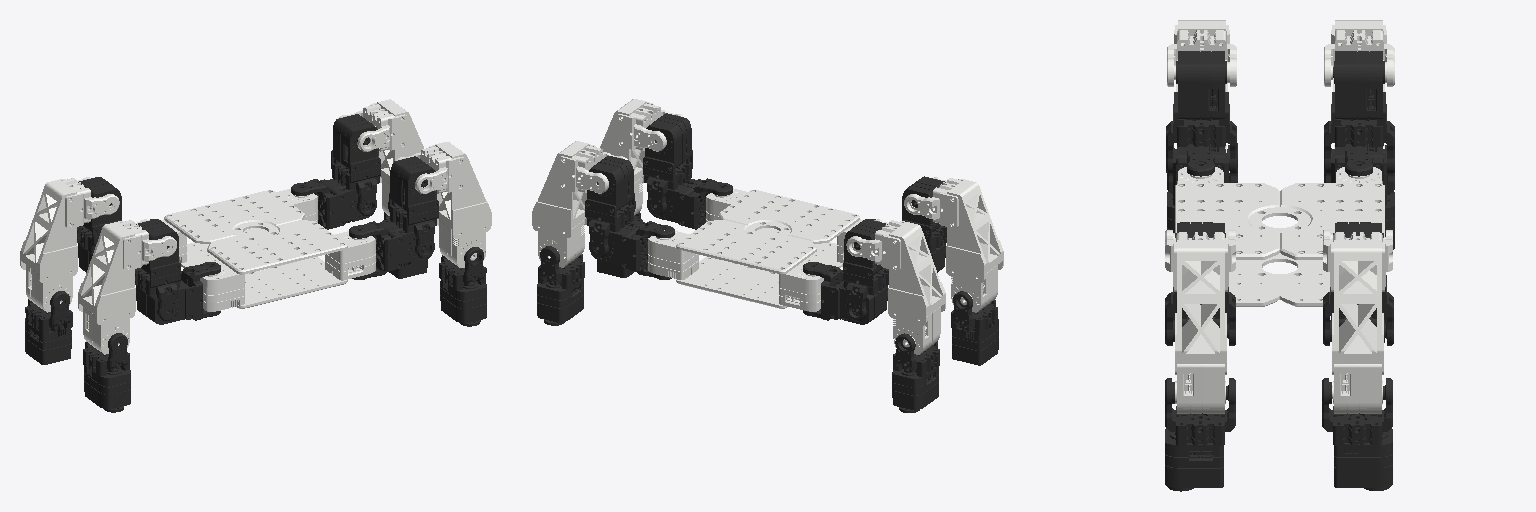
--- Facts derived from the render (not from the file) ---
Views: 3 orthographic renders of the robot side by side, from view 1: azimuth 30°, elevation 25°; view 2: azimuth 150°, elevation 25°; view 3: azimuth 270°, elevation 25°.
Model excelsus with 21 links and 20 joints (20 continuous), rooted at base_link, posed every joint at zero.
Visible links, largest first — view 1: base_link, front-right-middle-leg_1, rear-right-middle-leg_1, front-left-middle-leg_1, front-left-upper-leg_1, rear-left-upper-leg_1, rear-left-middle-leg_1, front-right-lower-leg_1, front-left-lower-leg_1, rear-right-lower-leg_1, front-right-upper-leg_1, front-left-base-leg_1 (+3 smaller); view 2: base_link, rear-right-middle-leg_1, front-right-middle-leg_1, rear-left-middle-leg_1, rear-left-upper-leg_1, front-left-upper-leg_1, front-left-middle-leg_1, rear-left-lower-leg_1, rear-right-lower-leg_1, front-right-lower-leg_1, rear-right-upper-leg_1, rear-right-base-leg_1 (+3 smaller); view 3: base_link, front-left-middle-leg_1, rear-left-middle-leg_1, rear-right-upper-leg_1, front-right-upper-leg_1, front-left-lower-leg_1, rear-left-lower-leg_1, rear-right-middle-leg_1, front-right-middle-leg_1, front-left-upper-leg_1, rear-left-upper-leg_1, rear-right-base-leg_1 (+2 smaller).
Link boxes in pixels (bbox=[...]): base_link: bbox=[161, 189, 375, 311]; front-right-middle-leg_1: bbox=[78, 219, 176, 354]; rear-right-middle-leg_1: bbox=[20, 177, 119, 312]; front-left-middle-leg_1: bbox=[396, 142, 491, 267]; front-left-upper-leg_1: bbox=[388, 156, 438, 257]; rear-left-upper-leg_1: bbox=[331, 114, 380, 215]; rear-left-middle-leg_1: bbox=[338, 99, 423, 215]; front-right-lower-leg_1: bbox=[83, 333, 130, 409]; front-left-lower-leg_1: bbox=[439, 247, 486, 323]; rear-right-lower-leg_1: bbox=[25, 291, 72, 364]; front-right-upper-leg_1: bbox=[135, 219, 180, 320]; front-left-base-leg_1: bbox=[349, 221, 431, 279]; base_link: bbox=[648, 188, 862, 311]; rear-right-middle-leg_1: bbox=[846, 219, 945, 354]; front-right-middle-leg_1: bbox=[904, 177, 1003, 312]; rear-left-middle-leg_1: bbox=[532, 141, 627, 267]; rear-left-upper-leg_1: bbox=[585, 156, 635, 257]; front-left-upper-leg_1: bbox=[643, 113, 692, 215]; front-left-middle-leg_1: bbox=[600, 99, 685, 215]; rear-left-lower-leg_1: bbox=[537, 246, 584, 322]; rear-right-lower-leg_1: bbox=[892, 333, 939, 410]; front-right-lower-leg_1: bbox=[951, 291, 998, 365]; rear-right-upper-leg_1: bbox=[843, 219, 888, 320]; rear-right-base-leg_1: bbox=[803, 262, 886, 324]; base_link: bbox=[1175, 167, 1384, 306]; front-left-middle-leg_1: bbox=[1165, 230, 1235, 413]; rear-left-middle-leg_1: bbox=[1323, 230, 1392, 413]; rear-right-upper-leg_1: bbox=[1324, 51, 1394, 173]; front-right-upper-leg_1: bbox=[1166, 51, 1236, 173]; front-left-lower-leg_1: bbox=[1165, 378, 1235, 487]; rear-left-lower-leg_1: bbox=[1322, 378, 1392, 487]; rear-right-middle-leg_1: bbox=[1324, 20, 1394, 148]; front-right-middle-leg_1: bbox=[1167, 20, 1236, 152]; front-left-upper-leg_1: bbox=[1165, 222, 1235, 345]; rear-left-upper-leg_1: bbox=[1323, 222, 1393, 345]; rear-right-base-leg_1: bbox=[1331, 144, 1386, 205].
Size in the robot's own frame: 0.341 by 0.1266 by 0.1423 metres.
21 mesh visuals loaded from 21 distinct referenced files (21 binary STL).

robot.urdf — excelsus:
<?xml version="1.0" ?>
<!-- =================================================================================== -->
<!-- |    This document was autogenerated by xacro from excelsus.xacro                 | -->
<!-- |    EDITING THIS FILE BY HAND IS NOT RECOMMENDED                                 | -->
<!-- =================================================================================== -->
<robot name="excelsus">
  <material name="silver_default">
    <color rgba="0.700 0.700 0.700 1.000"/>
  </material>
  <material name="opaque246246243">
    <color rgba="0.9647058823529412 0.9647058823529412 0.9529411764705882 1.0"/>
  </material>
  <material name="epx_150_air_baked_with_carbon_m2_m3_l1_3d_printers">
    <color rgba="0.24705882352941178 0.24705882352941178 0.24705882352941178 1.0"/>
  </material>
  <transmission name="RearLeftJoint2_tran">
    <type>transmission_interface/SimpleTransmission</type>
    <joint name="RearLeftJoint2">
      <hardwareInterface>hardware_interface/EffortJointInterface</hardwareInterface>
    </joint>
    <actuator name="RearLeftJoint2_actr">
      <hardwareInterface>hardware_interface/EffortJointInterface</hardwareInterface>
      <mechanicalReduction>1</mechanicalReduction>
    </actuator>
  </transmission>
  <transmission name="RearLeftJoint1_tran">
    <type>transmission_interface/SimpleTransmission</type>
    <joint name="RearLeftJoint1">
      <hardwareInterface>hardware_interface/EffortJointInterface</hardwareInterface>
    </joint>
    <actuator name="RearLeftJoint1_actr">
      <hardwareInterface>hardware_interface/EffortJointInterface</hardwareInterface>
      <mechanicalReduction>1</mechanicalReduction>
    </actuator>
  </transmission>
  <transmission name="RearLeftJoint0_tran">
    <type>transmission_interface/SimpleTransmission</type>
    <joint name="RearLeftJoint0">
      <hardwareInterface>hardware_interface/EffortJointInterface</hardwareInterface>
    </joint>
    <actuator name="RearLeftJoint0_actr">
      <hardwareInterface>hardware_interface/EffortJointInterface</hardwareInterface>
      <mechanicalReduction>1</mechanicalReduction>
    </actuator>
  </transmission>
  <transmission name="FrontLeftJoint2_tran">
    <type>transmission_interface/SimpleTransmission</type>
    <joint name="FrontLeftJoint2">
      <hardwareInterface>hardware_interface/EffortJointInterface</hardwareInterface>
    </joint>
    <actuator name="FrontLeftJoint2_actr">
      <hardwareInterface>hardware_interface/EffortJointInterface</hardwareInterface>
      <mechanicalReduction>1</mechanicalReduction>
    </actuator>
  </transmission>
  <transmission name="FrontLeftJoint1_tran">
    <type>transmission_interface/SimpleTransmission</type>
    <joint name="FrontLeftJoint1">
      <hardwareInterface>hardware_interface/EffortJointInterface</hardwareInterface>
    </joint>
    <actuator name="FrontLeftJoint1_actr">
      <hardwareInterface>hardware_interface/EffortJointInterface</hardwareInterface>
      <mechanicalReduction>1</mechanicalReduction>
    </actuator>
  </transmission>
  <transmission name="FrontLeftJoint0_tran">
    <type>transmission_interface/SimpleTransmission</type>
    <joint name="FrontLeftJoint0">
      <hardwareInterface>hardware_interface/EffortJointInterface</hardwareInterface>
    </joint>
    <actuator name="FrontLeftJoint0_actr">
      <hardwareInterface>hardware_interface/EffortJointInterface</hardwareInterface>
      <mechanicalReduction>1</mechanicalReduction>
    </actuator>
  </transmission>
  <transmission name="FrontRightJoint2_tran">
    <type>transmission_interface/SimpleTransmission</type>
    <joint name="FrontRightJoint2">
      <hardwareInterface>hardware_interface/EffortJointInterface</hardwareInterface>
    </joint>
    <actuator name="FrontRightJoint2_actr">
      <hardwareInterface>hardware_interface/EffortJointInterface</hardwareInterface>
      <mechanicalReduction>1</mechanicalReduction>
    </actuator>
  </transmission>
  <transmission name="FrontRightJoint1_tran">
    <type>transmission_interface/SimpleTransmission</type>
    <joint name="FrontRightJoint1">
      <hardwareInterface>hardware_interface/EffortJointInterface</hardwareInterface>
    </joint>
    <actuator name="FrontRightJoint1_actr">
      <hardwareInterface>hardware_interface/EffortJointInterface</hardwareInterface>
      <mechanicalReduction>1</mechanicalReduction>
    </actuator>
  </transmission>
  <transmission name="FrontRightJoint0_tran">
    <type>transmission_interface/SimpleTransmission</type>
    <joint name="FrontRightJoint0">
      <hardwareInterface>hardware_interface/EffortJointInterface</hardwareInterface>
    </joint>
    <actuator name="FrontRightJoint0_actr">
      <hardwareInterface>hardware_interface/EffortJointInterface</hardwareInterface>
      <mechanicalReduction>1</mechanicalReduction>
    </actuator>
  </transmission>
  <transmission name="RearRightJoint2_tran">
    <type>transmission_interface/SimpleTransmission</type>
    <joint name="RearRightJoint2">
      <hardwareInterface>hardware_interface/EffortJointInterface</hardwareInterface>
    </joint>
    <actuator name="RearRightJoint2_actr">
      <hardwareInterface>hardware_interface/EffortJointInterface</hardwareInterface>
      <mechanicalReduction>1</mechanicalReduction>
    </actuator>
  </transmission>
  <transmission name="RearRightJoint1_tran">
    <type>transmission_interface/SimpleTransmission</type>
    <joint name="RearRightJoint1">
      <hardwareInterface>hardware_interface/EffortJointInterface</hardwareInterface>
    </joint>
    <actuator name="RearRightJoint1_actr">
      <hardwareInterface>hardware_interface/EffortJointInterface</hardwareInterface>
      <mechanicalReduction>1</mechanicalReduction>
    </actuator>
  </transmission>
  <transmission name="RearRightJoint0_tran">
    <type>transmission_interface/SimpleTransmission</type>
    <joint name="RearRightJoint0">
      <hardwareInterface>hardware_interface/EffortJointInterface</hardwareInterface>
    </joint>
    <actuator name="RearRightJoint0_actr">
      <hardwareInterface>hardware_interface/EffortJointInterface</hardwareInterface>
      <mechanicalReduction>1</mechanicalReduction>
    </actuator>
  </transmission>
  <transmission name="RearLeftJoint4_tran">
    <type>transmission_interface/SimpleTransmission</type>
    <joint name="RearLeftJoint4">
      <hardwareInterface>hardware_interface/EffortJointInterface</hardwareInterface>
    </joint>
    <actuator name="RearLeftJoint4_actr">
      <hardwareInterface>hardware_interface/EffortJointInterface</hardwareInterface>
      <mechanicalReduction>1</mechanicalReduction>
    </actuator>
  </transmission>
  <transmission name="RearLeftJoint3_tran">
    <type>transmission_interface/SimpleTransmission</type>
    <joint name="RearLeftJoint3">
      <hardwareInterface>hardware_interface/EffortJointInterface</hardwareInterface>
    </joint>
    <actuator name="RearLeftJoint3_actr">
      <hardwareInterface>hardware_interface/EffortJointInterface</hardwareInterface>
      <mechanicalReduction>1</mechanicalReduction>
    </actuator>
  </transmission>
  <transmission name="FrontLeftJoint4_tran">
    <type>transmission_interface/SimpleTransmission</type>
    <joint name="FrontLeftJoint4">
      <hardwareInterface>hardware_interface/EffortJointInterface</hardwareInterface>
    </joint>
    <actuator name="FrontLeftJoint4_actr">
      <hardwareInterface>hardware_interface/EffortJointInterface</hardwareInterface>
      <mechanicalReduction>1</mechanicalReduction>
    </actuator>
  </transmission>
  <transmission name="FrontLeftJoint3_tran">
    <type>transmission_interface/SimpleTransmission</type>
    <joint name="FrontLeftJoint3">
      <hardwareInterface>hardware_interface/EffortJointInterface</hardwareInterface>
    </joint>
    <actuator name="FrontLeftJoint3_actr">
      <hardwareInterface>hardware_interface/EffortJointInterface</hardwareInterface>
      <mechanicalReduction>1</mechanicalReduction>
    </actuator>
  </transmission>
  <transmission name="FrontRightJoint4_tran">
    <type>transmission_interface/SimpleTransmission</type>
    <joint name="FrontRightJoint4">
      <hardwareInterface>hardware_interface/EffortJointInterface</hardwareInterface>
    </joint>
    <actuator name="FrontRightJoint4_actr">
      <hardwareInterface>hardware_interface/EffortJointInterface</hardwareInterface>
      <mechanicalReduction>1</mechanicalReduction>
    </actuator>
  </transmission>
  <transmission name="FrontRightJoint3_tran">
    <type>transmission_interface/SimpleTransmission</type>
    <joint name="FrontRightJoint3">
      <hardwareInterface>hardware_interface/EffortJointInterface</hardwareInterface>
    </joint>
    <actuator name="FrontRightJoint3_actr">
      <hardwareInterface>hardware_interface/EffortJointInterface</hardwareInterface>
      <mechanicalReduction>1</mechanicalReduction>
    </actuator>
  </transmission>
  <transmission name="RearRightJoint4_tran">
    <type>transmission_interface/SimpleTransmission</type>
    <joint name="RearRightJoint4">
      <hardwareInterface>hardware_interface/EffortJointInterface</hardwareInterface>
    </joint>
    <actuator name="RearRightJoint4_actr">
      <hardwareInterface>hardware_interface/EffortJointInterface</hardwareInterface>
      <mechanicalReduction>1</mechanicalReduction>
    </actuator>
  </transmission>
  <transmission name="RearRightJoint3_tran">
    <type>transmission_interface/SimpleTransmission</type>
    <joint name="RearRightJoint3">
      <hardwareInterface>hardware_interface/EffortJointInterface</hardwareInterface>
    </joint>
    <actuator name="RearRightJoint3_actr">
      <hardwareInterface>hardware_interface/EffortJointInterface</hardwareInterface>
      <mechanicalReduction>1</mechanicalReduction>
    </actuator>
  </transmission>
  <gazebo>
    <plugin filename="libgazebo_ros_control.so" name="control"/>
  </gazebo>
  <gazebo reference="base_link">
    <material>Gazebo/Silver</material>
    <mu1>0.2</mu1>
    <mu2>0.2</mu2>
    <selfCollide>true</selfCollide>
    <gravity>true</gravity>
  </gazebo>
  <gazebo reference="rear-left-middle-leg_1">
    <material>Gazebo/Silver</material>
    <mu1>0.2</mu1>
    <mu2>0.2</mu2>
    <selfCollide>true</selfCollide>
  </gazebo>
  <gazebo reference="rear-left-upper-leg_1">
    <material>Gazebo/Silver</material>
    <mu1>0.2</mu1>
    <mu2>0.2</mu2>
    <selfCollide>true</selfCollide>
  </gazebo>
  <gazebo reference="rear-left-base-leg_1">
    <material>Gazebo/Silver</material>
    <mu1>0.2</mu1>
    <mu2>0.2</mu2>
    <selfCollide>true</selfCollide>
  </gazebo>
  <gazebo reference="front-left-middle-leg_1">
    <material>Gazebo/Silver</material>
    <mu1>0.2</mu1>
    <mu2>0.2</mu2>
    <selfCollide>true</selfCollide>
  </gazebo>
  <gazebo reference="front-left-upper-leg_1">
    <material>Gazebo/Silver</material>
    <mu1>0.2</mu1>
    <mu2>0.2</mu2>
    <selfCollide>true</selfCollide>
  </gazebo>
  <gazebo reference="front-left-base-leg_1">
    <material>Gazebo/Silver</material>
    <mu1>0.2</mu1>
    <mu2>0.2</mu2>
    <selfCollide>true</selfCollide>
  </gazebo>
  <gazebo reference="front-right-middle-leg_1">
    <material>Gazebo/Silver</material>
    <mu1>0.2</mu1>
    <mu2>0.2</mu2>
    <selfCollide>true</selfCollide>
  </gazebo>
  <gazebo reference="front-right-upper-leg_1">
    <material>Gazebo/Silver</material>
    <mu1>0.2</mu1>
    <mu2>0.2</mu2>
    <selfCollide>true</selfCollide>
  </gazebo>
  <gazebo reference="front-right-base-leg_1">
    <material>Gazebo/Silver</material>
    <mu1>0.2</mu1>
    <mu2>0.2</mu2>
    <selfCollide>true</selfCollide>
  </gazebo>
  <gazebo reference="rear-right-middle-leg_1">
    <material>Gazebo/Silver</material>
    <mu1>0.2</mu1>
    <mu2>0.2</mu2>
    <selfCollide>true</selfCollide>
  </gazebo>
  <gazebo reference="rear-right-upper-leg_1">
    <material>Gazebo/Silver</material>
    <mu1>0.2</mu1>
    <mu2>0.2</mu2>
    <selfCollide>true</selfCollide>
  </gazebo>
  <gazebo reference="rear-right-base-leg_1">
    <material>Gazebo/Silver</material>
    <mu1>0.2</mu1>
    <mu2>0.2</mu2>
    <selfCollide>true</selfCollide>
  </gazebo>
  <gazebo reference="rear-left-craw_1">
    <material>Gazebo/Silver</material>
    <mu1>0.2</mu1>
    <mu2>0.2</mu2>
    <selfCollide>true</selfCollide>
  </gazebo>
  <gazebo reference="rear-left-lower-leg_1">
    <material>Gazebo/Silver</material>
    <mu1>0.2</mu1>
    <mu2>0.2</mu2>
    <selfCollide>true</selfCollide>
  </gazebo>
  <gazebo reference="front-left-craw_1">
    <material>Gazebo/Silver</material>
    <mu1>0.2</mu1>
    <mu2>0.2</mu2>
    <selfCollide>true</selfCollide>
  </gazebo>
  <gazebo reference="front-left-lower-leg_1">
    <material>Gazebo/Silver</material>
    <mu1>0.2</mu1>
    <mu2>0.2</mu2>
    <selfCollide>true</selfCollide>
  </gazebo>
  <gazebo reference="front-right-craw_1">
    <material>Gazebo/Silver</material>
    <mu1>0.2</mu1>
    <mu2>0.2</mu2>
    <selfCollide>true</selfCollide>
  </gazebo>
  <gazebo reference="front-right-lower-leg_1">
    <material>Gazebo/Silver</material>
    <mu1>0.2</mu1>
    <mu2>0.2</mu2>
    <selfCollide>true</selfCollide>
  </gazebo>
  <gazebo reference="rear-right-craw_1">
    <material>Gazebo/Silver</material>
    <mu1>0.2</mu1>
    <mu2>0.2</mu2>
    <selfCollide>true</selfCollide>
  </gazebo>
  <gazebo reference="rear-right-lower-leg_1">
    <material>Gazebo/Silver</material>
    <mu1>0.2</mu1>
    <mu2>0.2</mu2>
    <selfCollide>true</selfCollide>
  </gazebo>
  <link name="base_link">
    <inertial>
      <origin rpy="0 0 0" xyz="-5.030033392761689e-17 -0.00029569010956729944 -0.0007681503352656508"/>
      <mass value="1.125665971469736"/>
      <inertia ixx="0.001968" ixy="-3e-06" ixz="-0.0" iyy="0.002703" iyz="0.0" izz="0.004398"/>
    </inertial>
    <visual>
      <origin rpy="0 0 0" xyz="0 0 0"/>
      <geometry>
        <mesh filename="package://excelsus_description/meshes/base_link.stl" scale="0.001 0.001 0.001"/>
      </geometry>
      <material name="opaque246246243"/>
    </visual>
    <collision>
      <origin rpy="0 0 0" xyz="0 0 0"/>
      <geometry>
        <mesh filename="package://excelsus_description/meshes/base_link.stl" scale="0.001 0.001 0.001"/>
      </geometry>
    </collision>
  </link>
  <link name="rear-left-middle-leg_1">
    <inertial>
      <origin rpy="0 0 0" xyz="0.03662487154399953 -0.014211363327568671 -0.0346386088514269"/>
      <mass value="0.4219440312643297"/>
      <inertia ixx="0.000366" ixy="1e-06" ixz="8.3e-05" iyy="0.000391" iyz="-0.0" izz="9.8e-05"/>
    </inertial>
    <visual>
      <origin rpy="0 0 0" xyz="-0.1115 -0.056904 -0.051877"/>
      <geometry>
        <mesh filename="package://excelsus_description/meshes/rear-left-middle-leg_1.stl" scale="0.001 0.001 0.001"/>
      </geometry>
      <material name="opaque246246243"/>
    </visual>
    <collision>
      <origin rpy="0 0 0" xyz="-0.1115 -0.056904 -0.051877"/>
      <geometry>
        <mesh filename="package://excelsus_description/meshes/rear-left-middle-leg_1.stl" scale="0.001 0.001 0.001"/>
      </geometry>
    </collision>
  </link>
  <link name="rear-left-upper-leg_1">
    <inertial>
      <origin rpy="0 0 0" xyz="6.523326043211819e-05 -0.014144819518955569 0.03686031239871101"/>
      <mass value="0.24064580815886535"/>
      <inertia ixx="8.2e-05" ixy="0.0" ixz="-0.0" iyy="7.3e-05" iyz="1e-06" izz="3.4e-05"/>
    </inertial>
    <visual>
      <origin rpy="0 0 0" xyz="-0.1115 -0.057204 0.001123"/>
      <geometry>
        <mesh filename="package://excelsus_description/meshes/rear-left-upper-leg_1.stl" scale="0.001 0.001 0.001"/>
      </geometry>
      <material name="epx_150_air_baked_with_carbon_m2_m3_l1_3d_printers"/>
    </visual>
    <collision>
      <origin rpy="0 0 0" xyz="-0.1115 -0.057204 0.001123"/>
      <geometry>
        <mesh filename="package://excelsus_description/meshes/rear-left-upper-leg_1.stl" scale="0.001 0.001 0.001"/>
      </geometry>
    </collision>
  </link>
  <link name="rear-left-base-leg_1">
    <inertial>
      <origin rpy="0 0 0" xyz="0.03316988831276137 7.009790016201944e-05 -0.014273316157971089"/>
      <mass value="0.22271760560239287"/>
      <inertia ixx="3.1e-05" ixy="0.0" ixz="1e-06" iyy="6.2e-05" iyz="-0.0" izz="5.9e-05"/>
    </inertial>
    <visual>
      <origin rpy="0 0 0" xyz="-0.0645 -0.043204 -0.013177"/>
      <geometry>
        <mesh filename="package://excelsus_description/meshes/rear-left-base-leg_1.stl" scale="0.001 0.001 0.001"/>
      </geometry>
      <material name="epx_150_air_baked_with_carbon_m2_m3_l1_3d_printers"/>
    </visual>
    <collision>
      <origin rpy="0 0 0" xyz="-0.0645 -0.043204 -0.013177"/>
      <geometry>
        <mesh filename="package://excelsus_description/meshes/rear-left-base-leg_1.stl" scale="0.001 0.001 0.001"/>
      </geometry>
    </collision>
  </link>
  <link name="front-left-middle-leg_1">
    <inertial>
      <origin rpy="0 0 0" xyz="0.03662487154399953 0.014088636672431903 -0.03463860885142715"/>
      <mass value="0.4219440312643297"/>
      <inertia ixx="0.000366" ixy="1e-06" ixz="8.3e-05" iyy="0.000391" iyz="-0.0" izz="9.8e-05"/>
    </inertial>
    <visual>
      <origin rpy="0 0 0" xyz="-0.1115 0.057796 -0.051877"/>
      <geometry>
        <mesh filename="package://excelsus_description/meshes/front-left-middle-leg_1.stl" scale="0.001 0.001 0.001"/>
      </geometry>
      <material name="opaque246246243"/>
    </visual>
    <collision>
      <origin rpy="0 0 0" xyz="-0.1115 0.057796 -0.051877"/>
      <geometry>
        <mesh filename="package://excelsus_description/meshes/front-left-middle-leg_1.stl" scale="0.001 0.001 0.001"/>
      </geometry>
    </collision>
  </link>
  <link name="front-left-upper-leg_1">
    <inertial>
      <origin rpy="0 0 0" xyz="6.523326045146383e-05 0.014155180480418326 0.036860312398532415"/>
      <mass value="0.2406458081588655"/>
      <inertia ixx="8.2e-05" ixy="0.0" ixz="-0.0" iyy="7.3e-05" iyz="1e-06" izz="3.4e-05"/>
    </inertial>
    <visual>
      <origin rpy="0 0 0" xyz="-0.1115 0.057796 0.001123"/>
      <geometry>
        <mesh filename="package://excelsus_description/meshes/front-left-upper-leg_1.stl" scale="0.001 0.001 0.001"/>
      </geometry>
      <material name="epx_150_air_baked_with_carbon_m2_m3_l1_3d_printers"/>
    </visual>
    <collision>
      <origin rpy="0 0 0" xyz="-0.1115 0.057796 0.001123"/>
      <geometry>
        <mesh filename="package://excelsus_description/meshes/front-left-upper-leg_1.stl" scale="0.001 0.001 0.001"/>
      </geometry>
    </collision>
  </link>
  <link name="front-left-base-leg_1">
    <inertial>
      <origin rpy="0 0 0" xyz="0.03316988831276123 7.009790016202638e-05 -0.014273316157970225"/>
      <mass value="0.2227176056023929"/>
      <inertia ixx="3.1e-05" ixy="0.0" ixz="1e-06" iyy="6.2e-05" iyz="-0.0" izz="5.9e-05"/>
    </inertial>
    <visual>
      <origin rpy="0 0 0" xyz="-0.0645 0.043796 -0.013177"/>
      <geometry>
        <mesh filename="package://excelsus_description/meshes/front-left-base-leg_1.stl" scale="0.001 0.001 0.001"/>
      </geometry>
      <material name="epx_150_air_baked_with_carbon_m2_m3_l1_3d_printers"/>
    </visual>
    <collision>
      <origin rpy="0 0 0" xyz="-0.0645 0.043796 -0.013177"/>
      <geometry>
        <mesh filename="package://excelsus_description/meshes/front-left-base-leg_1.stl" scale="0.001 0.001 0.001"/>
      </geometry>
    </collision>
  </link>
  <link name="front-right-middle-leg_1">
    <inertial>
      <origin rpy="0 0 0" xyz="-0.036624871543999224 0.014211983108469377 -0.03463860885142524"/>
      <mass value="0.4219440312643297"/>
      <inertia ixx="0.000366" ixy="1e-06" ixz="-8.3e-05" iyy="0.000391" iyz="0.0" izz="9.8e-05"/>
    </inertial>
    <visual>
      <origin rpy="0 0 0" xyz="0.1115 0.057496 -0.051877"/>
      <geometry>
        <mesh filename="package://excelsus_description/meshes/front-right-middle-leg_1.stl" scale="0.001 0.001 0.001"/>
      </geometry>
      <material name="opaque246246243"/>
    </visual>
    <collision>
      <origin rpy="0 0 0" xyz="0.1115 0.057496 -0.051877"/>
      <geometry>
        <mesh filename="package://excelsus_description/meshes/front-right-middle-leg_1.stl" scale="0.001 0.001 0.001"/>
      </geometry>
    </collision>
  </link>
  <link name="front-right-upper-leg_1">
    <inertial>
      <origin rpy="0 0 0" xyz="-6.523326043220146e-05 0.014145439299855359 0.03686031239871269"/>
      <mass value="0.24064580815886535"/>
      <inertia ixx="8.2e-05" ixy="0.0" ixz="0.0" iyy="7.3e-05" iyz="-1e-06" izz="3.4e-05"/>
    </inertial>
    <visual>
      <origin rpy="0 0 0" xyz="0.1115 0.057796 0.001123"/>
      <geometry>
        <mesh filename="package://excelsus_description/meshes/front-right-upper-leg_1.stl" scale="0.001 0.001 0.001"/>
      </geometry>
      <material name="epx_150_air_baked_with_carbon_m2_m3_l1_3d_printers"/>
    </visual>
    <collision>
      <origin rpy="0 0 0" xyz="0.1115 0.057796 0.001123"/>
      <geometry>
        <mesh filename="package://excelsus_description/meshes/front-right-upper-leg_1.stl" scale="0.001 0.001 0.001"/>
      </geometry>
    </collision>
  </link>
  <link name="front-right-base-leg_1">
    <inertial>
      <origin rpy="0 0 0" xyz="-0.033169888312761464 -6.947811926222985e-05 -0.014273316157969668"/>
      <mass value="0.22271760560239287"/>
      <inertia ixx="3.1e-05" ixy="0.0" ixz="-1e-06" iyy="6.2e-05" iyz="0.0" izz="5.9e-05"/>
    </inertial>
    <visual>
      <origin rpy="0 0 0" xyz="0.0645 0.043796 -0.013177"/>
      <geometry>
        <mesh filename="package://excelsus_description/meshes/front-right-base-leg_1.stl" scale="0.001 0.001 0.001"/>
      </geometry>
      <material name="epx_150_air_baked_with_carbon_m2_m3_l1_3d_printers"/>
    </visual>
    <collision>
      <origin rpy="0 0 0" xyz="0.0645 0.043796 -0.013177"/>
      <geometry>
        <mesh filename="package://excelsus_description/meshes/front-right-base-leg_1.stl" scale="0.001 0.001 0.001"/>
      </geometry>
    </collision>
  </link>
  <link name="rear-right-middle-leg_1">
    <inertial>
      <origin rpy="0 0 0" xyz="-0.03662487154399986 -0.014088016891530546 -0.034638608851427076"/>
      <mass value="0.4219440312643297"/>
      <inertia ixx="0.000366" ixy="1e-06" ixz="-8.3e-05" iyy="0.000391" iyz="0.0" izz="9.8e-05"/>
    </inertial>
    <visual>
      <origin rpy="0 0 0" xyz="0.1115 -0.057204 -0.051877"/>
      <geometry>
        <mesh filename="package://excelsus_description/meshes/rear-right-middle-leg_1.stl" scale="0.001 0.001 0.001"/>
      </geometry>
      <material name="opaque246246243"/>
    </visual>
    <collision>
      <origin rpy="0 0 0" xyz="0.1115 -0.057204 -0.051877"/>
      <geometry>
        <mesh filename="package://excelsus_description/meshes/rear-right-middle-leg_1.stl" scale="0.001 0.001 0.001"/>
      </geometry>
    </collision>
  </link>
  <link name="rear-right-upper-leg_1">
    <inertial>
      <origin rpy="0 0 0" xyz="-6.523326043235411e-05 -0.014154560700144606 0.03686031239871122"/>
      <mass value="0.24064580815886538"/>
      <inertia ixx="8.2e-05" ixy="0.0" ixz="0.0" iyy="7.3e-05" iyz="-1e-06" izz="3.4e-05"/>
    </inertial>
    <visual>
      <origin rpy="0 0 0" xyz="0.1115 -0.057204 0.001123"/>
      <geometry>
        <mesh filename="package://excelsus_description/meshes/rear-right-upper-leg_1.stl" scale="0.001 0.001 0.001"/>
      </geometry>
      <material name="epx_150_air_baked_with_carbon_m2_m3_l1_3d_printers"/>
    </visual>
    <collision>
      <origin rpy="0 0 0" xyz="0.1115 -0.057204 0.001123"/>
      <geometry>
        <mesh filename="package://excelsus_description/meshes/rear-right-upper-leg_1.stl" scale="0.001 0.001 0.001"/>
      </geometry>
    </collision>
  </link>
  <link name="rear-right-base-leg_1">
    <inertial>
      <origin rpy="0 0 0" xyz="-0.033169888312761284 -6.947811926216046e-05 -0.014273316157970999"/>
      <mass value="0.2227176056023929"/>
      <inertia ixx="3.1e-05" ixy="0.0" ixz="-1e-06" iyy="6.2e-05" iyz="0.0" izz="5.9e-05"/>
    </inertial>
    <visual>
      <origin rpy="0 0 0" xyz="0.0645 -0.043204 -0.013177"/>
      <geometry>
        <mesh filename="package://excelsus_description/meshes/rear-right-base-leg_1.stl" scale="0.001 0.001 0.001"/>
      </geometry>
      <material name="epx_150_air_baked_with_carbon_m2_m3_l1_3d_printers"/>
    </visual>
    <collision>
      <origin rpy="0 0 0" xyz="0.0645 -0.043204 -0.013177"/>
      <geometry>
        <mesh filename="package://excelsus_description/meshes/rear-right-base-leg_1.stl" scale="0.001 0.001 0.001"/>
      </geometry>
    </collision>
  </link>
  <link name="rear-left-craw_1">
    <inertial>
      <origin rpy="0 0 0" xyz="-2.3946243918326893e-06 3.0989044990520354e-07 -0.0021710475035774945"/>
      <mass value="0.0032125334253544006"/>
      <inertia ixx="0.0" ixy="0.0" ixz="-0.0" iyy="0.0" iyz="0.0" izz="0.0"/>
    </inertial>
    <visual>
      <origin rpy="0 0 0" xyz="-0.153864 -0.052804 0.071568"/>
      <geometry>
        <mesh filename="package://excelsus_description/meshes/rear-left-craw_1.stl" scale="0.001 0.001 0.001"/>
      </geometry>
      <material name="epx_150_air_baked_with_carbon_m2_m3_l1_3d_printers"/>
    </visual>
    <collision>
      <origin rpy="0 0 0" xyz="-0.153864 -0.052804 0.071568"/>
      <geometry>
        <mesh filename="package://excelsus_description/meshes/rear-left-craw_1.stl" scale="0.001 0.001 0.001"/>
      </geometry>
    </collision>
  </link>
  <link name="rear-left-lower-leg_1">
    <inertial>
      <origin rpy="0 0 0" xyz="-5.1416892328209896e-05 -0.011888882526507272 -0.032619644830111594"/>
      <mass value="0.2261109161031503"/>
      <inertia ixx="6.2e-05" ixy="0.0" ixz="-0.0" iyy="5e-05" iyz="3e-06" izz="3.5e-05"/>
    </inertial>
    <visual>
      <origin rpy="0 0 0" xyz="-0.154 -0.056604 0.018623"/>
      <geometry>
        <mesh filename="package://excelsus_description/meshes/rear-left-lower-leg_1.stl" scale="0.001 0.001 0.001"/>
      </geometry>
      <material name="epx_150_air_baked_with_carbon_m2_m3_l1_3d_printers"/>
    </visual>
    <collision>
      <origin rpy="0 0 0" xyz="-0.154 -0.056604 0.018623"/>
      <geometry>
        <mesh filename="package://excelsus_description/meshes/rear-left-lower-leg_1.stl" scale="0.001 0.001 0.001"/>
      </geometry>
    </collision>
  </link>
  <link name="front-left-craw_1">
    <inertial>
      <origin rpy="0 0 0" xyz="2.1245051555485173e-06 3.098904506060318e-07 -0.0021710027440375868"/>
      <mass value="0.0032125334253544006"/>
      <inertia ixx="0.0" ixy="-0.0" ixz="0.0" iyy="0.0" iyz="0.0" izz="0.0"/>
    </inertial>
    <visual>
      <origin rpy="0 0 0" xyz="-0.153864 0.054596 0.071678"/>
      <geometry>
        <mesh filename="package://excelsus_description/meshes/front-left-craw_1.stl" scale="0.001 0.001 0.001"/>
      </geometry>
      <material name="epx_150_air_baked_with_carbon_m2_m3_l1_3d_printers"/>
    </visual>
    <collision>
      <origin rpy="0 0 0" xyz="-0.153864 0.054596 0.071678"/>
      <geometry>
        <mesh filename="package://excelsus_description/meshes/front-left-craw_1.stl" scale="0.001 0.001 0.001"/>
      </geometry>
    </collision>
  </link>
  <link name="front-left-lower-leg_1">
    <inertial>
      <origin rpy="0 0 0" xyz="-0.00019048025029058668 -0.01651832705013496 -0.032699923981751075"/>
      <mass value="0.22611091610315037"/>
      <inertia ixx="6.3e-05" ixy="-0.0" ixz="-0.0" iyy="5e-05" iyz="-4e-06" izz="3.5e-05"/>
    </inertial>
    <visual>
      <origin rpy="0 0 0" xyz="-0.154 0.029796 0.018623"/>
      <geometry>
        <mesh filename="package://excelsus_description/meshes/front-left-lower-leg_1.stl" scale="0.001 0.001 0.001"/>
      </geometry>
      <material name="epx_150_air_baked_with_carbon_m2_m3_l1_3d_printers"/>
    </visual>
    <collision>
      <origin rpy="0 0 0" xyz="-0.154 0.029796 0.018623"/>
      <geometry>
        <mesh filename="package://excelsus_description/meshes/front-left-lower-leg_1.stl" scale="0.001 0.001 0.001"/>
      </geometry>
    </collision>
  </link>
  <link name="front-right-craw_1">
    <inertial>
      <origin rpy="0 0 0" xyz="-2.412367960169526e-06 3.098904509946099e-07 -0.002171047503575649"/>
      <mass value="0.0032125334253544006"/>
      <inertia ixx="0.0" ixy="0.0" ixz="-0.0" iyy="0.0" iyz="-0.0" izz="0.0"/>
    </inertial>
    <visual>
      <origin rpy="0 0 0" xyz="0.153864 0.053396 0.071568"/>
      <geometry>
        <mesh filename="package://excelsus_description/meshes/front-right-craw_1.stl" scale="0.001 0.001 0.001"/>
      </geometry>
      <material name="epx_150_air_baked_with_carbon_m2_m3_l1_3d_printers"/>
    </visual>
    <collision>
      <origin rpy="0 0 0" xyz="0.153864 0.053396 0.071568"/>
      <geometry>
        <mesh filename="package://excelsus_description/meshes/front-right-craw_1.stl" scale="0.001 0.001 0.001"/>
      </geometry>
    </collision>
  </link>
  <link name="front-right-lower-leg_1">
    <inertial>
      <origin rpy="0 0 0" xyz="5.1416892328154384e-05 0.011889502307408178 -0.03261964483010979"/>
      <mass value="0.22611091610315034"/>
      <inertia ixx="6.2e-05" ixy="0.0" ixz="0.0" iyy="5e-05" iyz="-3e-06" izz="3.5e-05"/>
    </inertial>
    <visual>
      <origin rpy="0 0 0" xyz="0.154 0.057196 0.018623"/>
      <geometry>
        <mesh filename="package://excelsus_description/meshes/front-right-lower-leg_1.stl" scale="0.001 0.001 0.001"/>
      </geometry>
      <material name="epx_150_air_baked_with_carbon_m2_m3_l1_3d_printers"/>
    </visual>
    <collision>
      <origin rpy="0 0 0" xyz="0.154 0.057196 0.018623"/>
      <geometry>
        <mesh filename="package://excelsus_description/meshes/front-right-lower-leg_1.stl" scale="0.001 0.001 0.001"/>
      </geometry>
    </collision>
  </link>
  <link name="rear-right-craw_1">
    <inertial>
      <origin rpy="0 0 0" xyz="-2.1245051574914076e-06 3.0989045091134315e-07 -0.002171002744037351"/>
      <mass value="0.0032125334253544006"/>
      <inertia ixx="0.0" ixy="-0.0" ixz="-0.0" iyy="0.0" iyz="-0.0" izz="0.0"/>
    </inertial>
    <visual>
      <origin rpy="0 0 0" xyz="0.153864 -0.054004 0.071678"/>
      <geometry>
        <mesh filename="package://excelsus_description/meshes/rear-right-craw_1.stl" scale="0.001 0.001 0.001"/>
      </geometry>
      <material name="epx_150_air_baked_with_carbon_m2_m3_l1_3d_printers"/>
    </visual>
    <collision>
      <origin rpy="0 0 0" xyz="0.153864 -0.054004 0.071678"/>
      <geometry>
        <mesh filename="package://excelsus_description/meshes/rear-right-craw_1.stl" scale="0.001 0.001 0.001"/>
      </geometry>
    </collision>
  </link>
  <link name="rear-right-lower-leg_1">
    <inertial>
      <origin rpy="0 0 0" xyz="0.0001904802502888936 0.016518946831036524 -0.032699923981750895"/>
      <mass value="0.22611091610315037"/>
      <inertia ixx="6.3e-05" ixy="-0.0" ixz="0.0" iyy="5e-05" iyz="4e-06" izz="3.5e-05"/>
    </inertial>
    <visual>
      <origin rpy="0 0 0" xyz="0.154 -0.029204 0.018623"/>
      <geometry>
        <mesh filename="package://excelsus_description/meshes/rear-right-lower-leg_1.stl" scale="0.001 0.001 0.001"/>
      </geometry>
      <material name="epx_150_air_baked_with_carbon_m2_m3_l1_3d_printers"/>
    </visual>
    <collision>
      <origin rpy="0 0 0" xyz="0.154 -0.029204 0.018623"/>
      <geometry>
        <mesh filename="package://excelsus_description/meshes/rear-right-lower-leg_1.stl" scale="0.001 0.001 0.001"/>
      </geometry>
    </collision>
  </link>
  <joint name="RearLeftJoint2" type="continuous">
    <origin rpy="0 0 0" xyz="0.0 -0.0003 0.053"/>
    <parent link="rear-left-upper-leg_1"/>
    <child link="rear-left-middle-leg_1"/>
    <axis xyz="0.0 -1.0 0.0"/>
    <limit effort="0.48" velocity="6.55" lower="0.0" upper="3.14"/>
  </joint>
  <joint name="RearLeftJoint1" type="continuous">
    <origin rpy="0 0 0" xyz="0.047 0.014 -0.0143"/>
    <parent link="rear-left-base-leg_1"/>
    <child link="rear-left-upper-leg_1"/>
    <axis xyz="0.0 1.0 -0.0"/>
    <limit effort="0.48" velocity="6.55" lower="-1.57" upper="1.57"/>
  </joint>
  <joint name="RearLeftJoint0" type="continuous">
    <origin rpy="0 0 0" xyz="0.0645 0.043204 0.013177"/>
    <parent link="base_link"/>
    <child link="rear-left-base-leg_1"/>
    <axis xyz="-0.0 -0.0 1.0"/>
    <limit effort="0.48" velocity="6.55" lower="-1.04" upper="1.57"/>
  </joint>
  <joint name="FrontLeftJoint2" type="continuous">
    <origin rpy="0 0 0" xyz="0.0 0.0 0.053"/>
    <parent link="front-left-upper-leg_1"/>
    <child link="front-left-middle-leg_1"/>
    <axis xyz="0.0 -1.0 -0.0"/>
    <limit effort="0.48" velocity="6.55" lower="0.0" upper="3.14"/>
  </joint>
  <joint name="FrontLeftJoint1" type="continuous">
    <origin rpy="0 0 0" xyz="0.047 -0.014 -0.0143"/>
    <parent link="front-left-base-leg_1"/>
    <child link="front-left-upper-leg_1"/>
    <axis xyz="-0.0 1.0 -0.0"/>
    <limit effort="0.48" velocity="6.55" lower="-1.57" upper="1.57"/>
  </joint>
  <joint name="FrontLeftJoint0" type="continuous">
    <origin rpy="0 0 0" xyz="0.0645 -0.043796 0.013177"/>
    <parent link="base_link"/>
    <child link="front-left-base-leg_1"/>
    <axis xyz="-0.0 -0.0 -1.0"/>
    <limit effort="0.48" velocity="6.55" lower="-1.04" upper="1.57"/>
  </joint>
  <joint name="FrontRightJoint2" type="continuous">
    <origin rpy="0 0 0" xyz="0.0 0.0003 0.053"/>
    <parent link="front-right-upper-leg_1"/>
    <child link="front-right-middle-leg_1"/>
    <axis xyz="-0.0 1.0 -0.0"/>
    <limit effort="0.48" velocity="6.55" lower="0.0" upper="3.14"/>
  </joint>
  <joint name="FrontRightJoint1" type="continuous">
    <origin rpy="0 0 0" xyz="-0.047 -0.014 -0.0143"/>
    <parent link="front-right-base-leg_1"/>
    <child link="front-right-upper-leg_1"/>
    <axis xyz="-0.0 -1.0 -0.0"/>
    <limit effort="0.48" velocity="6.55" lower="-1.57" upper="1.57"/>
  </joint>
  <joint name="FrontRightJoint0" type="continuous">
    <origin rpy="0 0 0" xyz="-0.0645 -0.043796 0.013177"/>
    <parent link="base_link"/>
    <child link="front-right-base-leg_1"/>
    <axis xyz="0.0 0.0 1.0"/>
    <limit effort="0.48" velocity="6.55" lower="-1.04" upper="1.57"/>
  </joint>
  <joint name="RearRightJoint2" type="continuous">
    <origin rpy="0 0 0" xyz="0.0 0.0 0.053"/>
    <parent link="rear-right-upper-leg_1"/>
    <child link="rear-right-middle-leg_1"/>
    <axis xyz="-0.0 1.0 -0.0"/>
    <limit effort="0.48" velocity="6.55" lower="0.0" upper="3.14"/>
  </joint>
  <joint name="RearRightJoint1" type="continuous">
    <origin rpy="0 0 0" xyz="-0.047 0.014 -0.0143"/>
    <parent link="rear-right-base-leg_1"/>
    <child link="rear-right-upper-leg_1"/>
    <axis xyz="0.0 -1.0 -0.0"/>
    <limit effort="0.48" velocity="6.55" lower="-1.57" upper="1.57"/>
  </joint>
  <joint name="RearRightJoint0" type="continuous">
    <origin rpy="0 0 0" xyz="-0.0645 0.043204 0.013177"/>
    <parent link="base_link"/>
    <child link="rear-right-base-leg_1"/>
    <axis xyz="0.0 0.0 -1.0"/>
    <limit effort="0.48" velocity="6.55" lower="-1.04" upper="1.57"/>
  </joint>
  <joint name="RearLeftJoint4" type="continuous">
    <origin rpy="0 0 0" xyz="-0.000136 -0.0038 -0.052945"/>
    <parent link="rear-left-lower-leg_1"/>
    <child link="rear-left-craw_1"/>
    <axis xyz="0.0 -0.0 -1.0"/>
    <limit effort="0.48" velocity="6.55" lower="-3.14" upper="3.14"/>
  </joint>
  <joint name="RearLeftJoint3" type="continuous">
    <origin rpy="0 0 0" xyz="0.0425 -0.0003 -0.0705"/>
    <parent link="rear-left-middle-leg_1"/>
    <child link="rear-left-lower-leg_1"/>
    <axis xyz="0.0 -1.0 0.0"/>
    <limit effort="0.48" velocity="6.55" lower="-1.57" upper="1.57"/>
  </joint>
  <joint name="FrontLeftJoint4" type="continuous">
    <origin rpy="0 0 0" xyz="-0.000136 -0.0248 -0.053055"/>
    <parent link="front-left-lower-leg_1"/>
    <child link="front-left-craw_1"/>
    <axis xyz="0.0 0.0 1.0"/>
    <limit effort="0.48" velocity="6.55" lower="-3.14" upper="3.14"/>
  </joint>
  <joint name="FrontLeftJoint3" type="continuous">
    <origin rpy="0 0 0" xyz="0.0425 0.028 -0.0705"/>
    <parent link="front-left-middle-leg_1"/>
    <child link="front-left-lower-leg_1"/>
    <axis xyz="0.0 -1.0 -0.0"/>
    <limit effort="0.48" velocity="6.55" lower="-1.57" upper="1.57"/>
  </joint>
  <joint name="FrontRightJoint4" type="continuous">
    <origin rpy="0 0 0" xyz="0.000136 0.0038 -0.052945"/>
    <parent link="front-right-lower-leg_1"/>
    <child link="front-right-craw_1"/>
    <axis xyz="-0.0 -0.0 -1.0"/>
    <limit effort="0.48" velocity="6.55" lower="-3.14" upper="3.14"/>
  </joint>
  <joint name="FrontRightJoint3" type="continuous">
    <origin rpy="0 0 0" xyz="-0.0425 0.0003 -0.0705"/>
    <parent link="front-right-middle-leg_1"/>
    <child link="front-right-lower-leg_1"/>
    <axis xyz="0.0 1.0 0.0"/>
    <limit effort="0.48" velocity="6.55" lower="-1.57" upper="1.57"/>
  </joint>
  <joint name="RearRightJoint4" type="continuous">
    <origin rpy="0 0 0" xyz="0.000136 0.0248 -0.053055"/>
    <parent link="rear-right-lower-leg_1"/>
    <child link="rear-right-craw_1"/>
    <axis xyz="0.0 0.0 -1.0"/>
    <limit effort="0.48" velocity="6.55" lower="-3.14" upper="3.14"/>
  </joint>
  <joint name="RearRightJoint3" type="continuous">
    <origin rpy="0 0 0" xyz="-0.0425 -0.028 -0.0705"/>
    <parent link="rear-right-middle-leg_1"/>
    <child link="rear-right-lower-leg_1"/>
    <axis xyz="0.0 1.0 -0.0"/>
    <limit effort="0.48" velocity="6.55" lower="-1.57" upper="1.57"/>
  </joint>
</robot>
